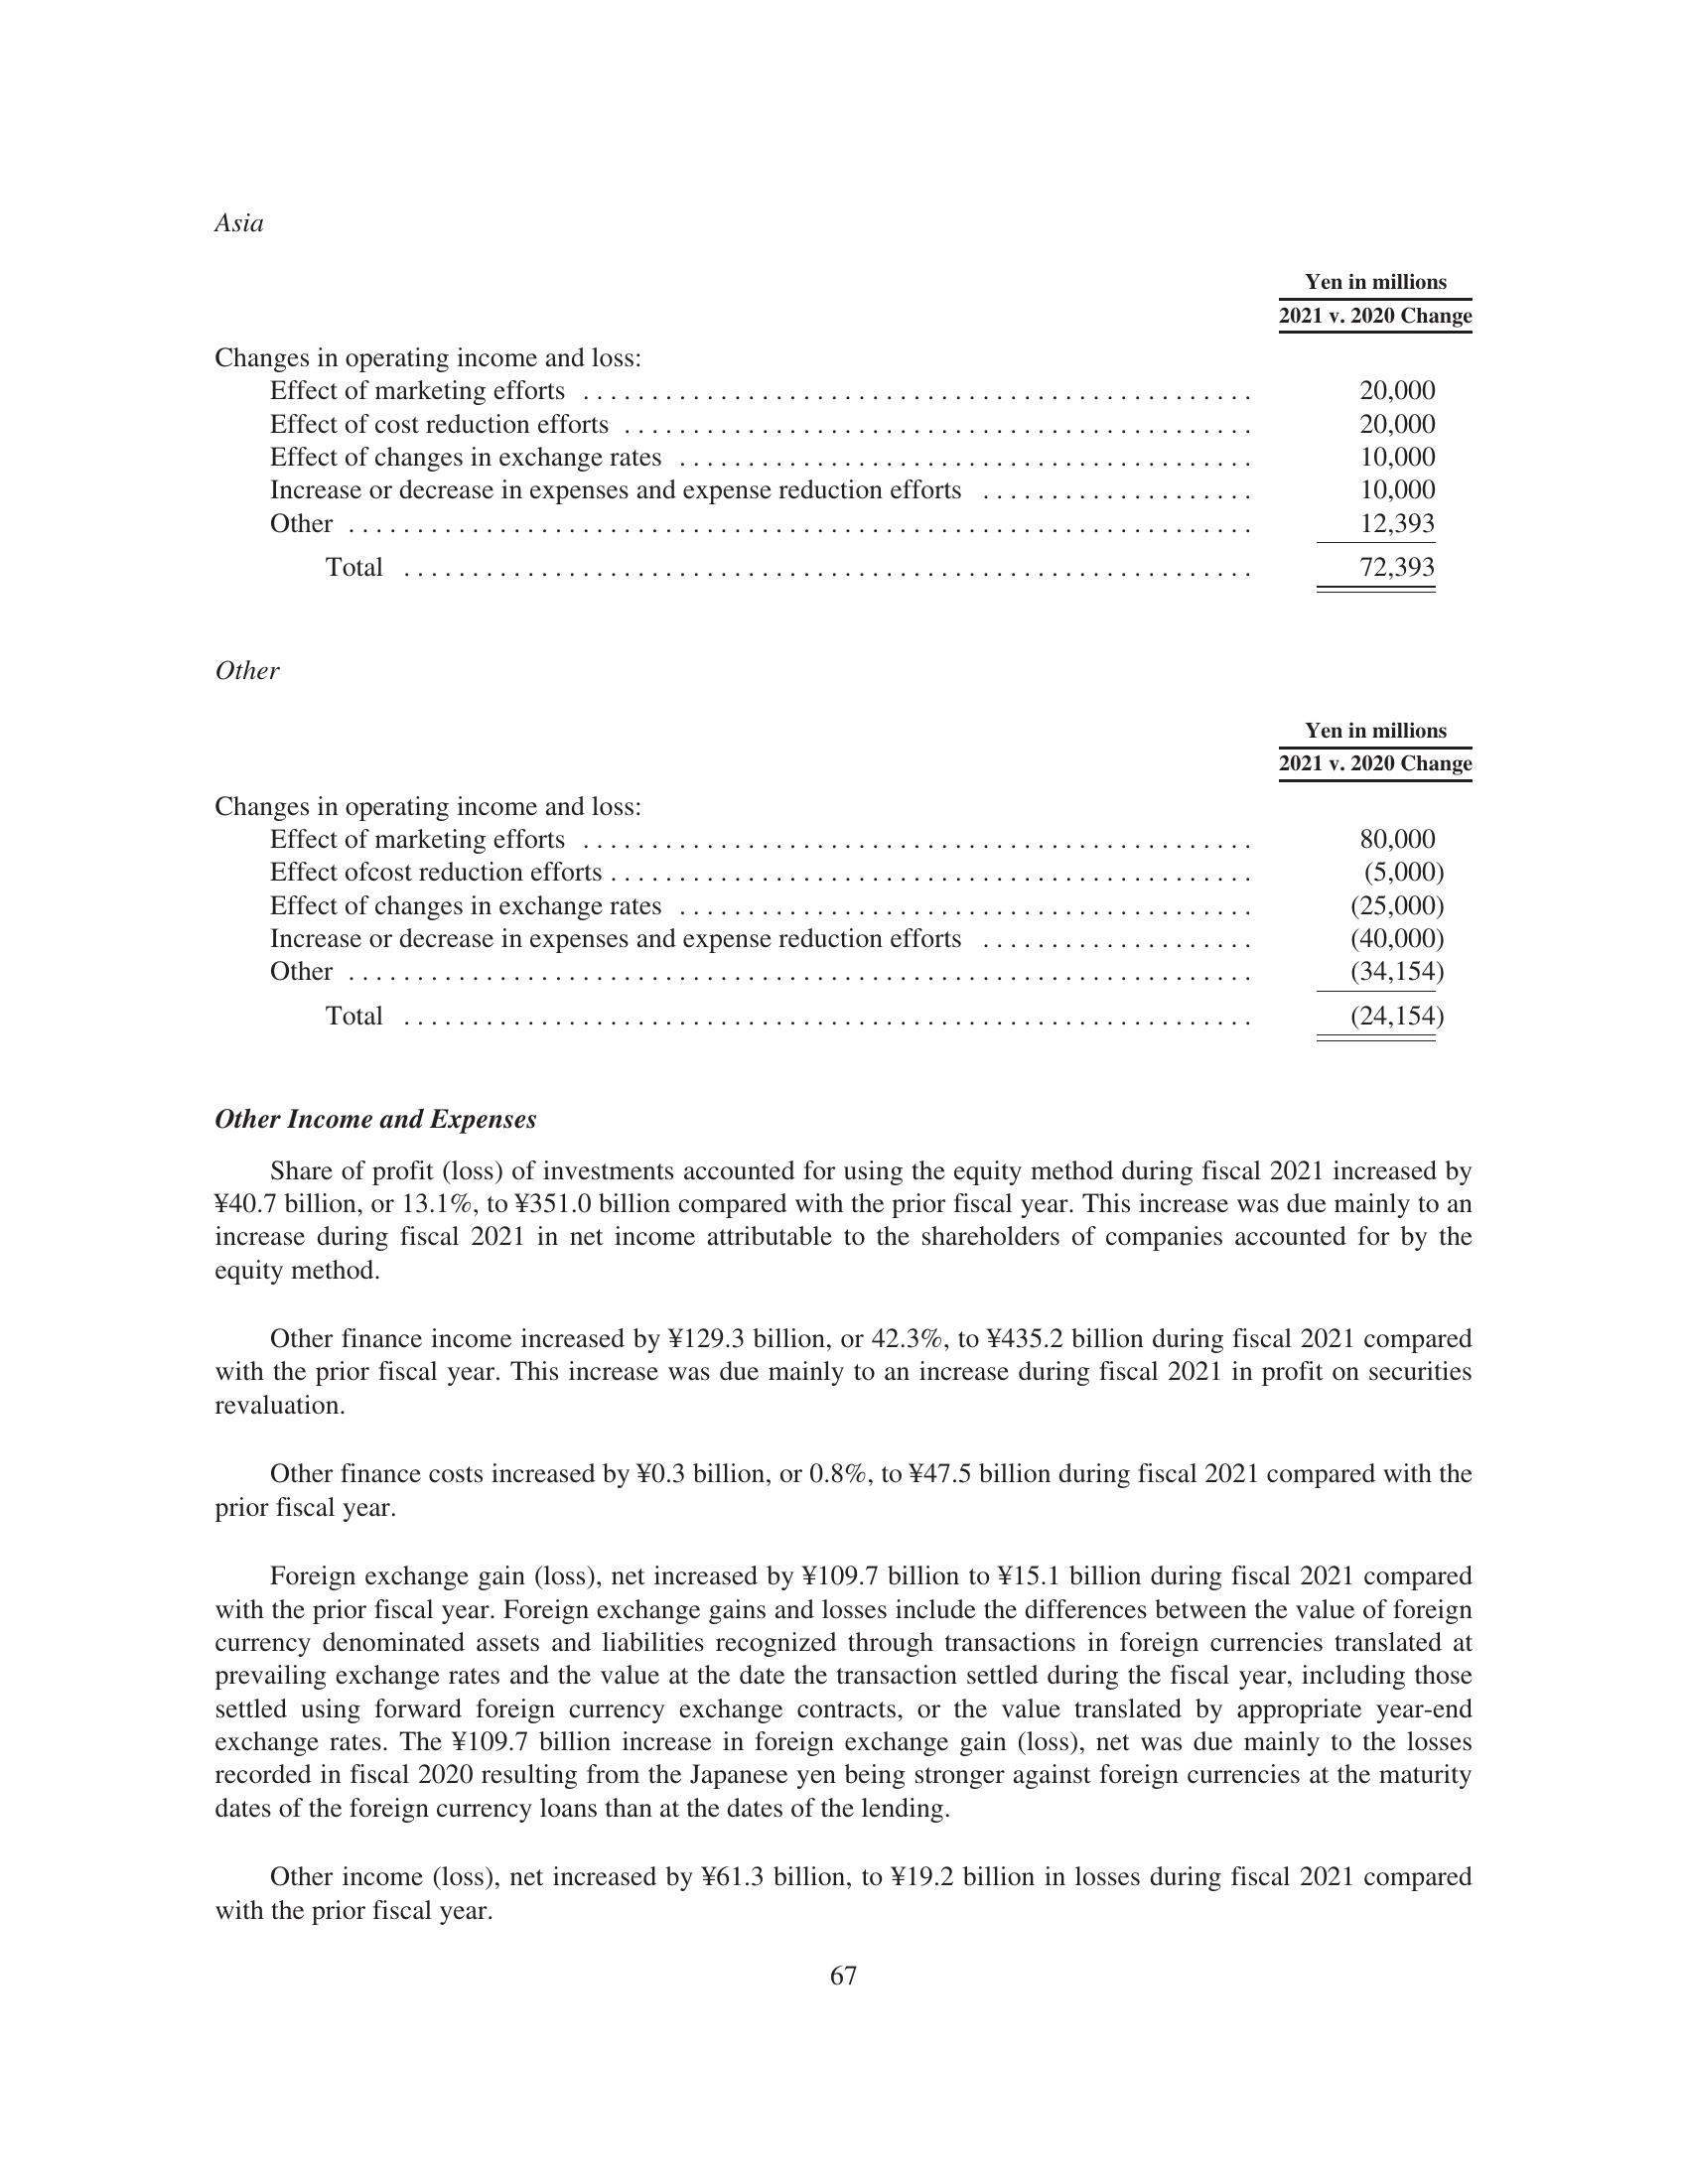Footer: (0, 1946, 1688, 2184)
Header: (0, 0, 1688, 188)
Table: (145, 264, 1512, 604), (160, 714, 1500, 1057)
